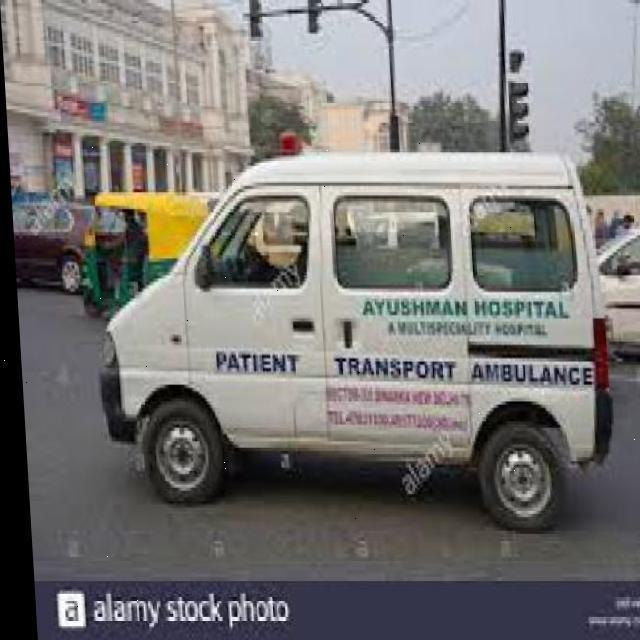Ambulance: (13, 276, 640, 581), (69, 188, 226, 322), (9, 189, 134, 297), (589, 222, 640, 364)
